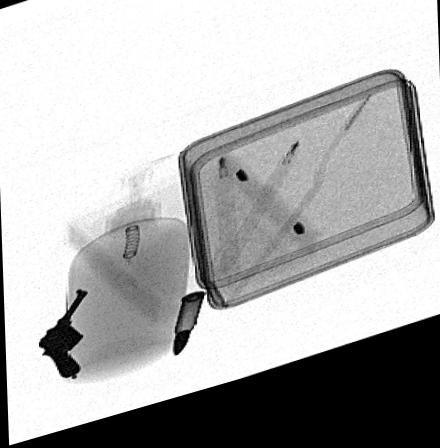Bullet: (172, 302, 205, 364)
Gun: (32, 294, 89, 382)
